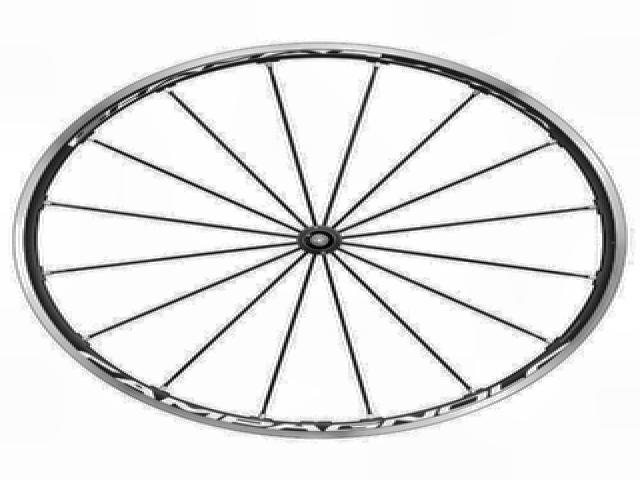wheel: (9, 40, 627, 445)
